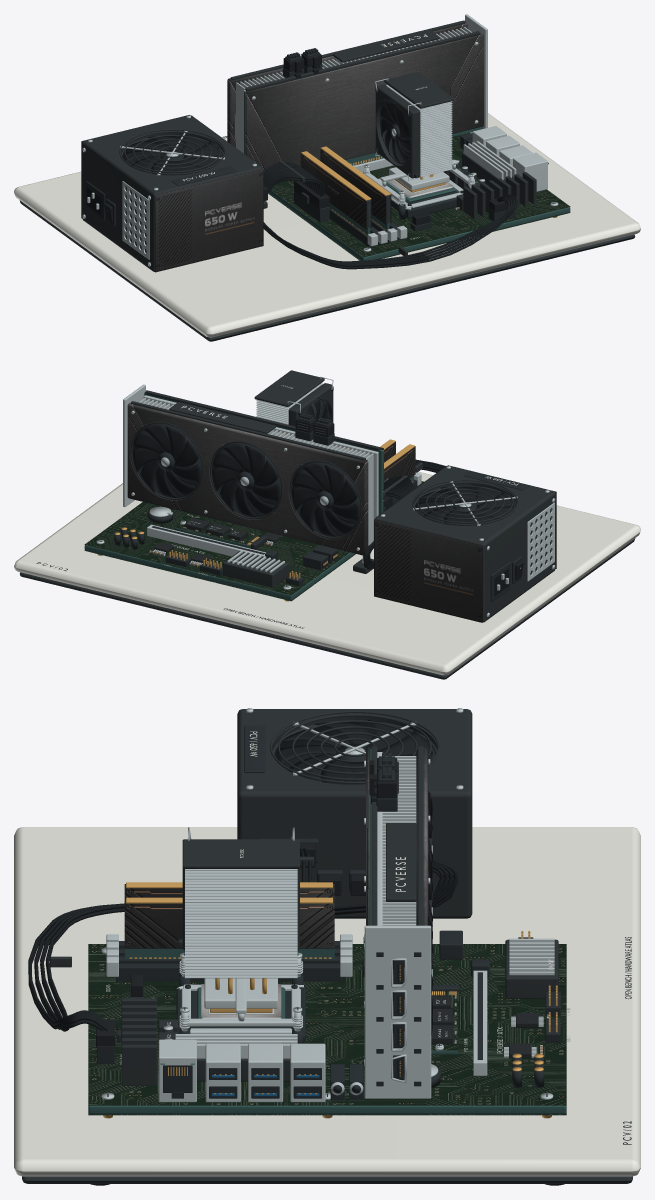
The model's file is atlas.glb.
3 views of the same model, one above another, from view 1: azimuth 30°, elevation 25°; view 2: azimuth 150°, elevation 25°; view 3: azimuth 270°, elevation 25° (orthographic). The views are drawn at different scales.
Visible parts, largest first — view 1: base_Porcelain, gpu_GPU machined metal, psu_Graphite enamel, psu_PCVerse powder coated PSU, board_Motherboard silkscreen, board_Brushed aluminium, cooler_Brushed aluminium, cooler_Graphite enamel, gpu_Graphite enamel, base_Graphite enamel, board_Graphite enamel, ram_PCVerse memory spreader (+12 smaller); view 2: base_Porcelain, gpu_GPU machined metal, psu_Graphite enamel, psu_PCVerse powder coated PSU, board_Motherboard silkscreen, gpu_Graphite enamel, gpu_Fan satin polymer, gpu_Fan satin polymer.002, gpu_Fan satin polymer.001, base_Graphite enamel, gpu_Brushed aluminium, board_Ceramic (+14 smaller); view 3: base_Porcelain, board_Motherboard silkscreen, psu_Graphite enamel, cooler_Brushed aluminium, gpu_Brushed aluminium, board_Brushed aluminium, board_Ceramic, board_Graphite enamel, base_Graphite enamel, ram_PCVerse memory spreader, wiringEps_Woven cable sheath, board_Midnight PCB (+12 smaller).
Boxes of the visible parts, left/top/right/bottom form: base_Porcelain: left=14, top=113, right=640, bottom=337; gpu_GPU machined metal: left=227, top=22, right=483, bottom=170; psu_Graphite enamel: left=82, top=115, right=262, bottom=271; psu_PCVerse powder coated PSU: left=81, top=115, right=263, bottom=272; board_Motherboard silkscreen: left=268, top=133, right=570, bottom=260; board_Brushed aluminium: left=353, top=126, right=558, bottom=251; cooler_Brushed aluminium: left=363, top=78, right=474, bottom=204; cooler_Graphite enamel: left=375, top=72, right=454, bottom=178; gpu_Graphite enamel: left=230, top=20, right=480, bottom=91; base_Graphite enamel: left=19, top=136, right=635, bottom=341; board_Graphite enamel: left=443, top=152, right=536, bottom=219; ram_PCVerse memory spreader: left=300, top=148, right=391, bottom=229; base_Porcelain: left=14, top=471, right=640, bottom=675; gpu_GPU machined metal: left=127, top=390, right=383, bottom=555; psu_Graphite enamel: left=375, top=465, right=555, bottom=622; psu_PCVerse powder coated PSU: left=374, top=465, right=556, bottom=622; board_Motherboard silkscreen: left=84, top=481, right=423, bottom=601; gpu_Graphite enamel: left=130, top=390, right=380, bottom=538; gpu_Fan satin polymer: left=132, top=424, right=200, bottom=497; gpu_Fan satin polymer.002: left=291, top=463, right=358, bottom=536; gpu_Fan satin polymer.001: left=212, top=444, right=279, bottom=517; base_Graphite enamel: left=20, top=538, right=635, bottom=679; gpu_Brushed aluminium: left=123, top=384, right=378, bottom=550; board_Ceramic: left=99, top=479, right=417, bottom=587; base_Porcelain: left=14, top=827, right=640, bottom=1176; board_Motherboard silkscreen: left=88, top=944, right=566, bottom=1115; psu_Graphite enamel: left=237, top=709, right=472, bottom=918; cooler_Brushed aluminium: left=179, top=827, right=303, bottom=1030; gpu_Brushed aluminium: left=364, top=752, right=431, bottom=1098; board_Brushed aluminium: left=101, top=934, right=554, bottom=1102; board_Ceramic: left=96, top=930, right=560, bottom=1100; board_Graphite enamel: left=121, top=939, right=558, bottom=1085; base_Graphite enamel: left=22, top=937, right=632, bottom=1183; ram_PCVerse memory spreader: left=124, top=884, right=334, bottom=948; wiringEps_Woven cable sheath: left=28, top=859, right=457, bottom=1031; board_Midnight PCB: left=88, top=1105, right=566, bottom=1114.
Size of the model in its own units: 10.25 by 3.62 by 8.
Materials: 19 (5 with a texture image).
